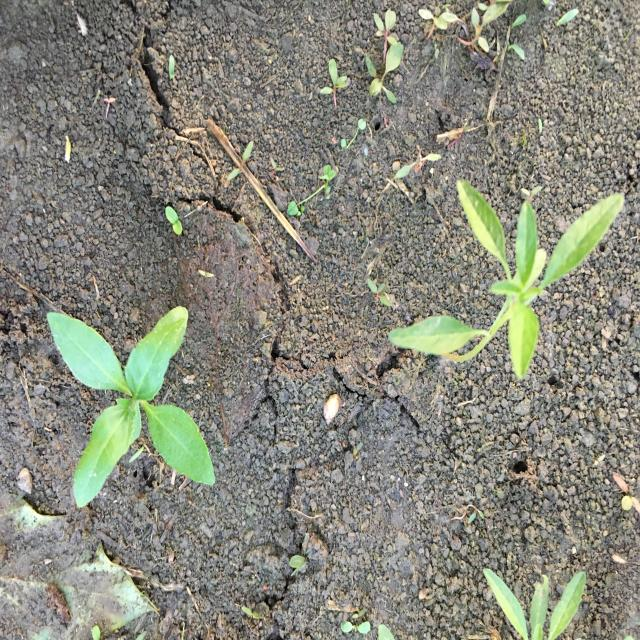Eclipta: (45, 304, 217, 510)
Waterhemp: (387, 177, 627, 382), (480, 565, 588, 637)
